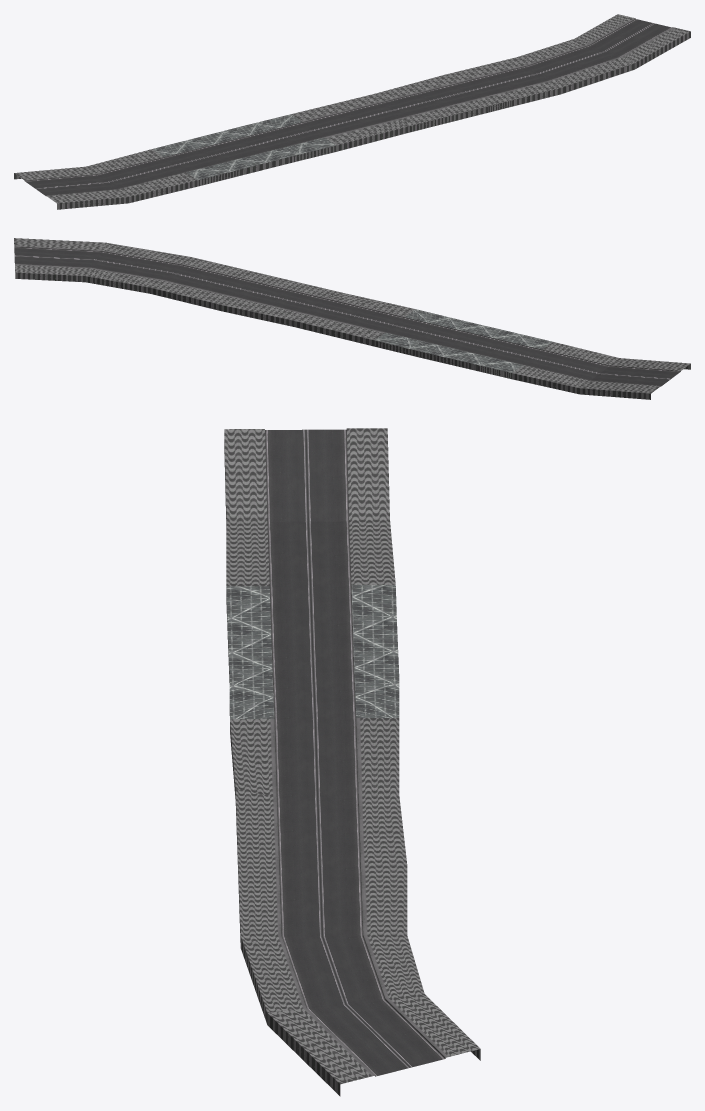
Rendered from road_sfw42.obj.
The picture shows the model from 3 angles, top to bottom: view 1: azimuth 30°, elevation 25°; view 2: azimuth 150°, elevation 25°; view 3: azimuth 270°, elevation 25°; orthographic projection. The views are drawn at different scales.
Visible parts, largest first — view 1: road_SFW42; view 2: road_SFW42; view 3: road_SFW42.
Part boxes in pixels (left/top/right/bottom): road_SFW42: left=14, top=14, right=690, bottom=209; road_SFW42: left=14, top=238, right=690, bottom=399; road_SFW42: left=224, top=428, right=480, bottom=1096.
Size of the model in its own units: 183 by 4.75 by 31.39.
Materials: 3 (3 with a texture image).
